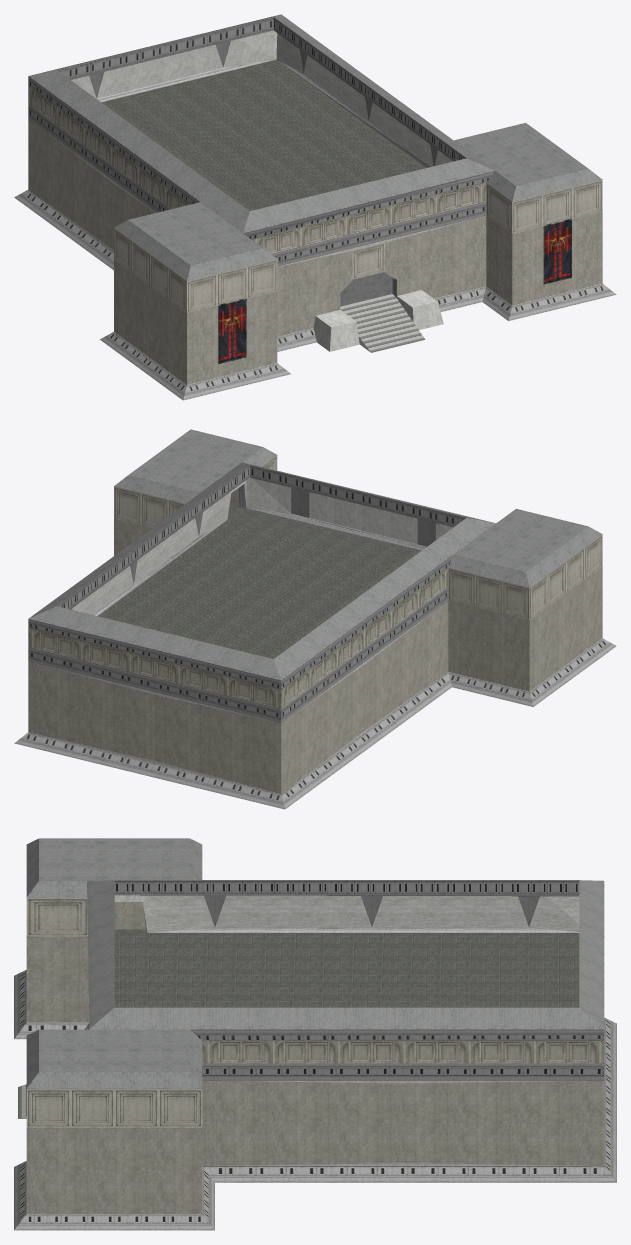
The model's file is ply_corl_assoc_hall_civ_s01_l2.fbx.
3 views of the same model, one above another, from view 1: azimuth 30°, elevation 25°; view 2: azimuth 150°, elevation 25°; view 3: azimuth 270°, elevation 25° (orthographic). The views are drawn at different scales.
Visible parts, largest first — view 1: mesh_node; view 2: mesh_node; view 3: mesh_node.
Part boxes in pixels (bbox=[...]): mesh_node: bbox=[14, 14, 616, 400]; mesh_node: bbox=[14, 429, 616, 809]; mesh_node: bbox=[14, 838, 616, 1230].
Size of the model in its own units: 48 by 14 by 48.
